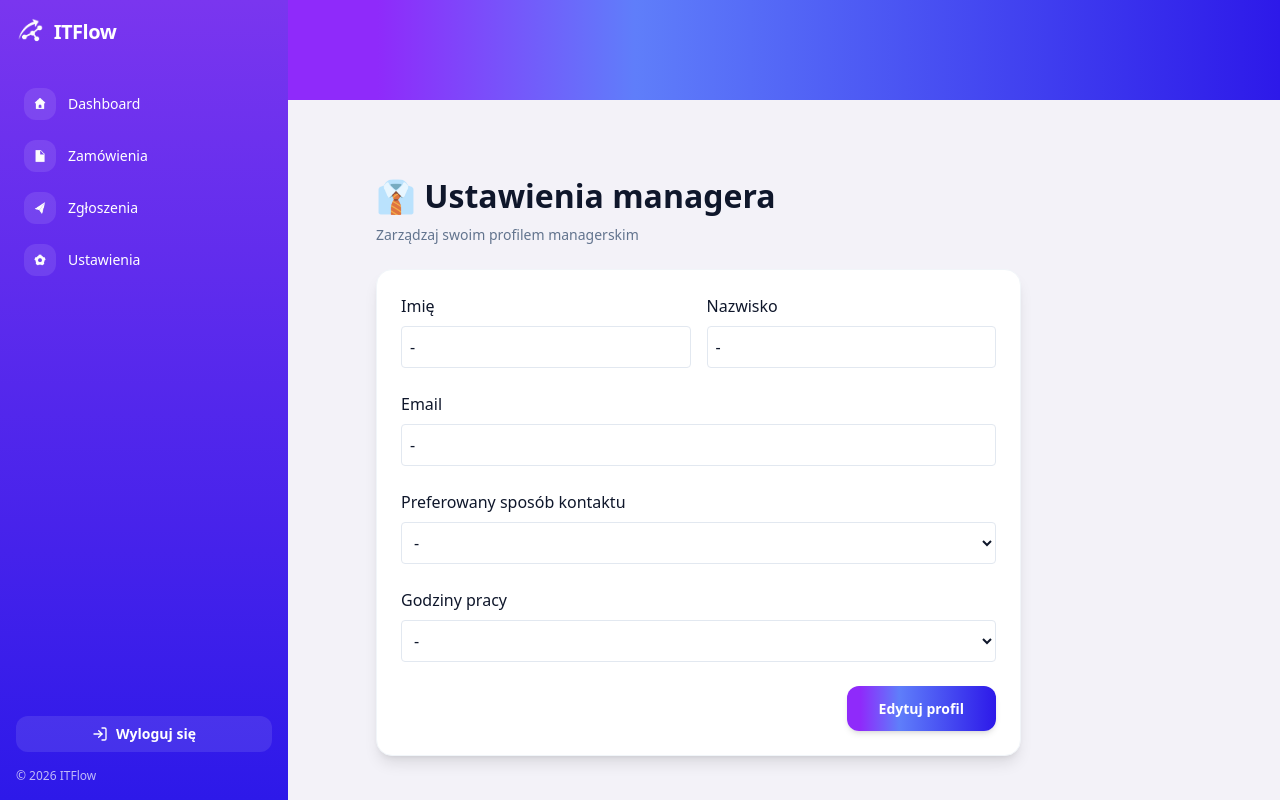
ManagerSettings › toggles edit mode for profile fields
Expected: the field below "Imię" is disabled, [401,326,690,368]
Expected: the field below "Imię" holds "-", [401,326,690,368]
Click the button "Edytuj profil" at (921, 708), box [847,686,996,731]
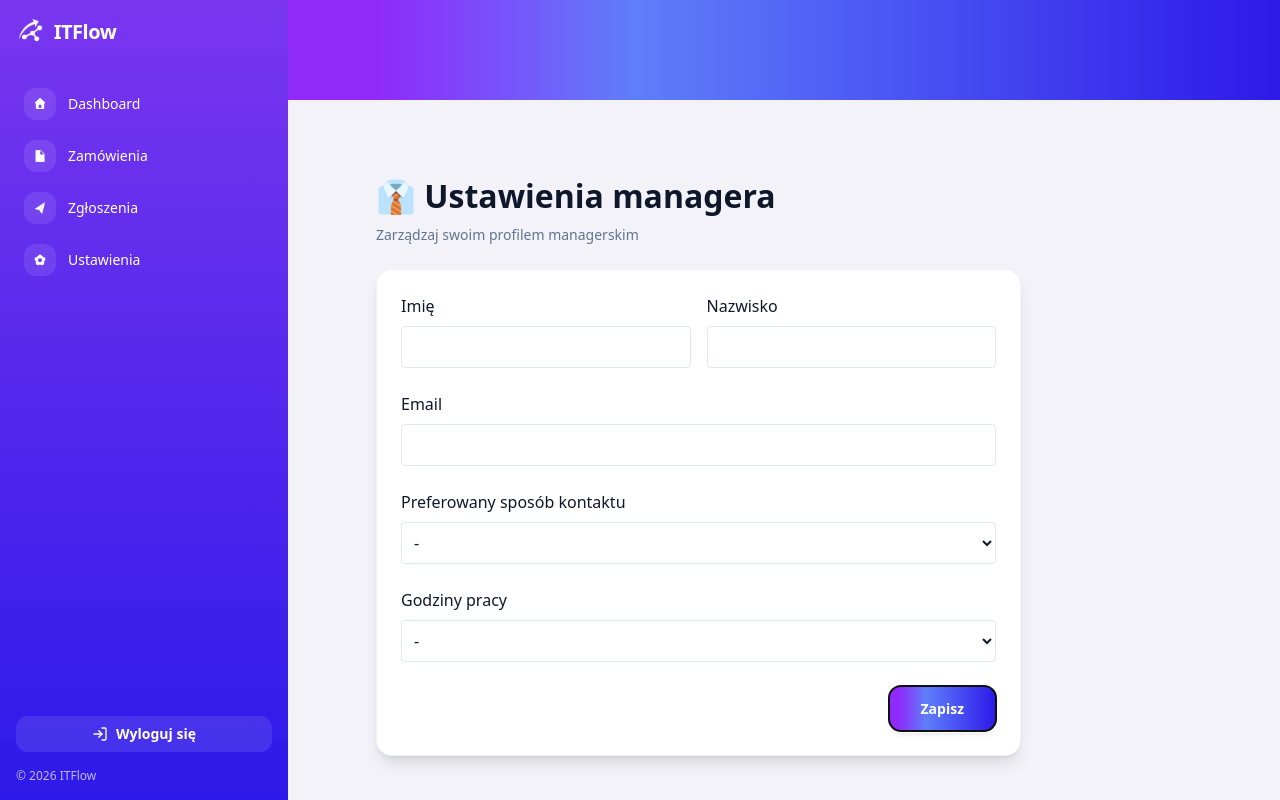
Expected: the field below "Imię" is enabled, [401,326,690,368]
Result: the button "Zapisz" is shown at [888,686,996,731]
